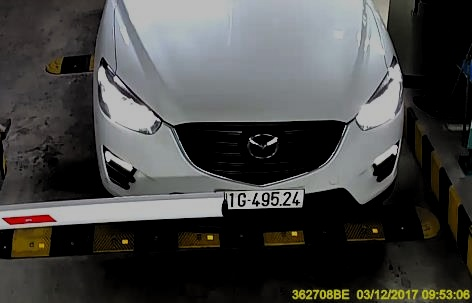plate: (215, 186, 306, 214)
